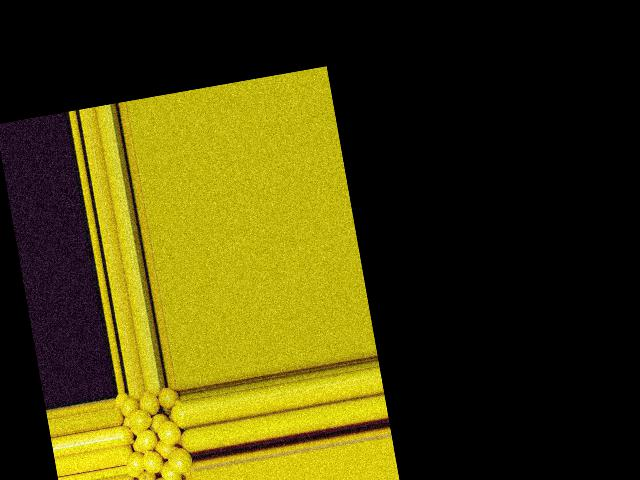lemon: (169, 396, 187, 429)
